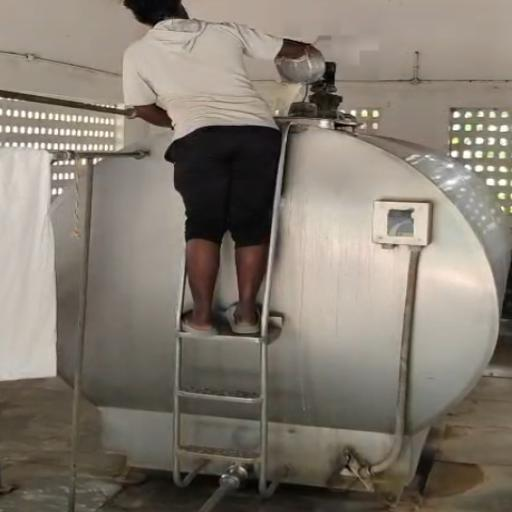silo: (52, 114, 511, 493)
vessel: (274, 45, 327, 85)
